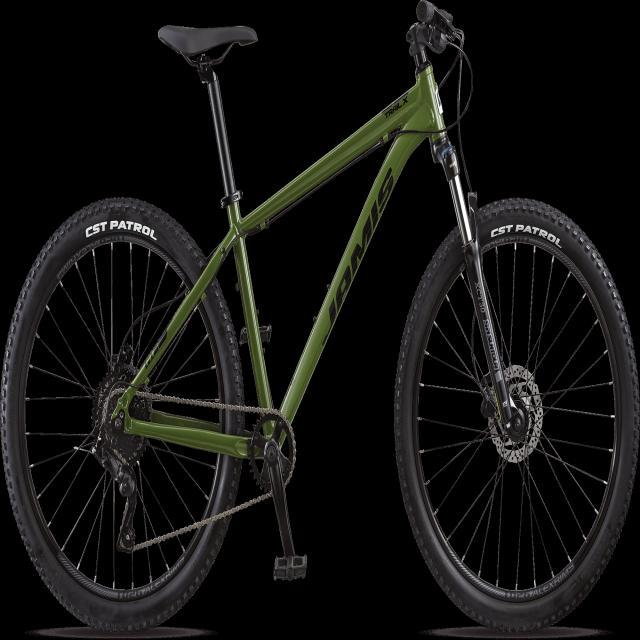bike: (1, 1, 638, 634)
